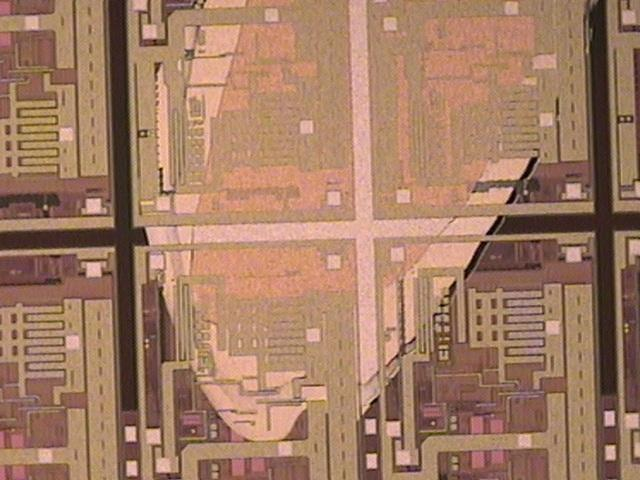COATING BAD: (125, 1, 606, 467)
